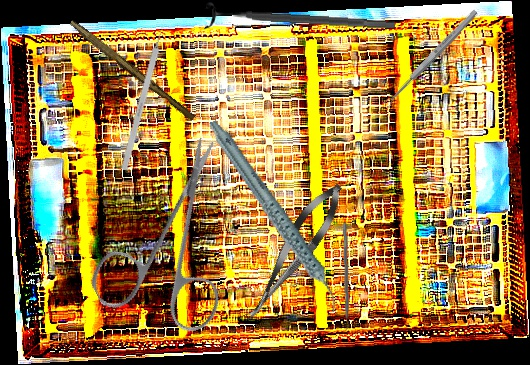Fixation Ring: (204, 1, 396, 40)
Handpiece: (206, 102, 341, 331)
Hook Surgical: (120, 18, 168, 171)
Iris Scissors: (55, 134, 284, 363)
Micro Scissor: (234, 176, 353, 330)
Scalpel Handle: (66, 19, 198, 122)
Spatula Surgical: (338, 222, 351, 335)
Surgical Spoon: (381, 8, 480, 109)
